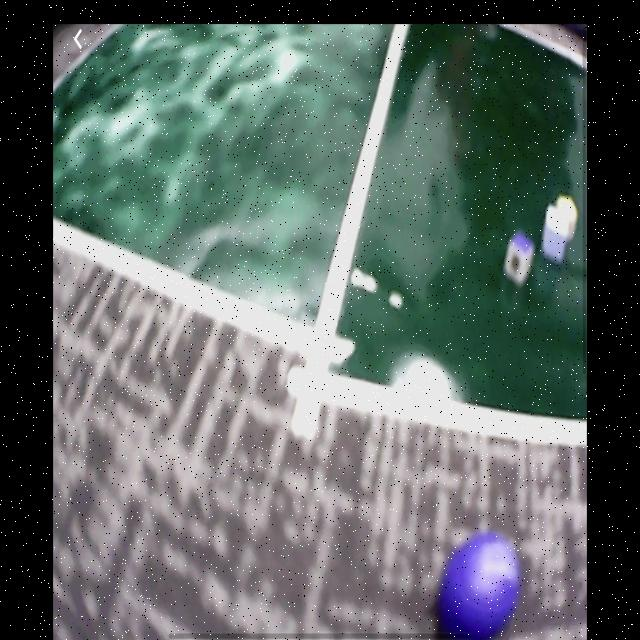ball: (441, 532, 520, 637)
